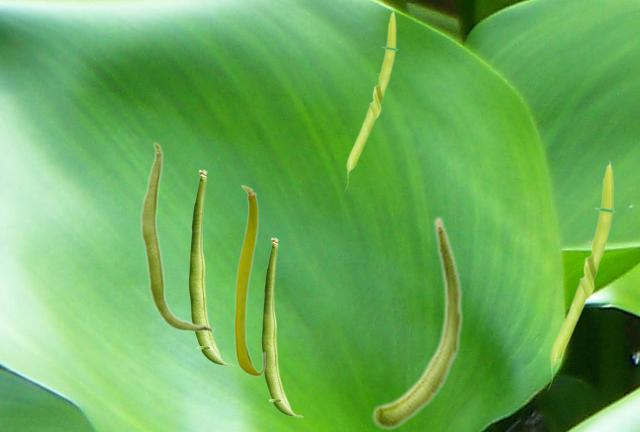french_bean: (371, 215, 463, 429), (547, 159, 615, 390), (139, 141, 214, 333), (344, 8, 397, 191), (188, 169, 234, 365), (261, 237, 303, 416), (233, 184, 265, 376)
